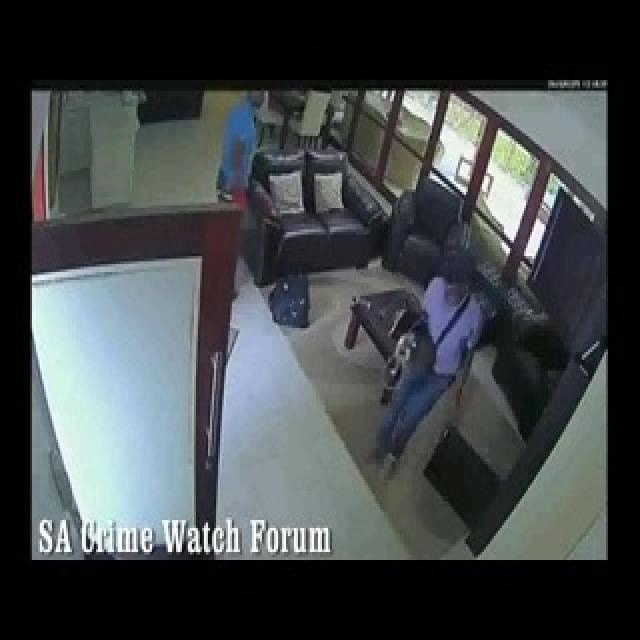thief: (378, 264, 488, 457), (202, 90, 284, 206)
